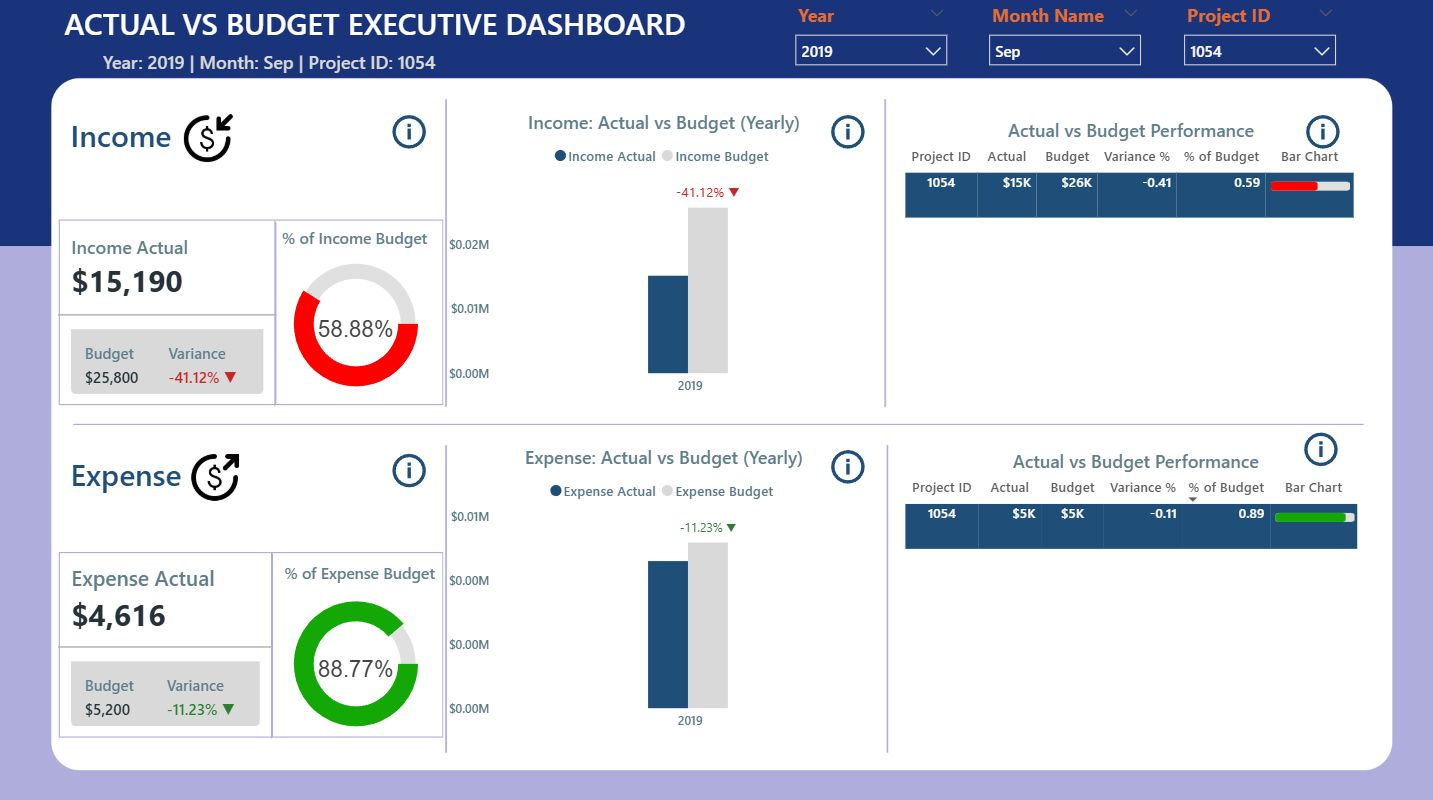

The dashboard page shown, as its layout file describes it:
{"tool":"powerbi","page":{"name":"Main","canvas":[1280,720],"ordinal":0},"visuals":[{"type":"pivotTable","title":"Actual vs Budget Performance","fields":{"Rows":["Data.Project_ID"],"Values":["Key Measures.Income Actual","Key Measures.Income Budget","Key Measures.Income Variance %","Key Measures.% of Income Budget","Key Measures.Income Bar Chart"]},"box":[801.1,107.4,411.4,263],"z":0},{"type":"slicer","fields":{"Values":["Data.Year"]},"box":[697.4,0,155.7,72.4],"z":1},{"type":"slicer","fields":{"Values":["Data.Month Name"]},"box":[870.6,0,155.7,72.4],"z":2},{"type":"slicer","fields":{"Values":["Data.Project_ID"]},"box":[1043.7,0,155.7,72.4],"z":3},{"type":"clusteredColumnChart","title":"Income: Actual vs Budget (Yearly)","fields":{"Y":["Key Measures.Income Actual","Key Measures.Income Budget"],"Category":["Data.Year"]},"box":[394.6,100.2,394.6,263],"z":4},{"type":"clusteredColumnChart","title":"Expense: Actual vs Budget (Yearly)","fields":{"Y":["Key Measures.Expense Actual","Key Measures.Expense Budget"],"Category":["Data.Year"]},"box":[394.6,398.2,394.6,263],"z":5},{"type":"cardVisual","fields":{"Data":["Key Measures.Income Actual"]},"box":[35,181,229.3,201.5],"z":6},{"type":"cardVisual","fields":{"Data":["Key Measures.% of Income Budget"]},"box":[100.2,191.9,300.5,199.1],"z":7},{"type":"textbox","box":[219.6,200.3,193.1,31.4],"z":8},{"type":"shape","box":[51.9,197.9,342.7,165.3],"z":9},{"type":"cardVisual","fields":{"Data":["Key Measures.Expense Actual"]},"box":[35,476.6,226.8,202.7],"z":10},{"type":"cardVisual","fields":{"Data":["Key Measures.% of Expense Budget"]},"box":[100.2,494.7,300.5,199.1],"z":11},{"type":"textbox","box":[223.2,498.3,193.1,31.4],"z":12},{"type":"shape","box":[51.9,494.7,342.7,165.3],"z":13},{"type":"pivotTable","title":"Actual vs Budget Performance","fields":{"Rows":["Data.Project_ID"],"Values":["Key Measures.Expense Actual","Key Measures.Expense Budget","Key Measures.Expense Variance %","Key Measures.% of Expense Budget","Key Measures.Expense Bar Chart"]},"box":[801.2,401.8,419.9,259.4],"z":14},{"type":"textbox","box":[57.9,100.2,220.8,51.9],"z":15},{"type":"textbox","box":[57.9,401.8,193.1,51.9],"z":16},{"type":"image","box":[148.4,100.1,72.4,51.9],"z":17},{"type":"image","box":[154.4,401.7,72.4,51.9],"z":18},{"type":"textbox","box":[51.9,0,581.6,51.9],"z":19},{"type":"card","fields":{"Values":["Key Measures.Dynamic Header"]},"box":[51.9,45.8,375.2,26.5],"z":20},{"type":"actionButton","box":[342.6,100.1,42.2,39.8],"z":21},{"type":"actionButton","box":[342.6,401.7,42.2,39.8],"z":22},{"type":"actionButton","box":[733.5,100.1,42.2,39.8],"z":23},{"type":"actionButton","box":[733.5,398.1,42.2,39.8],"z":24},{"type":"actionButton","box":[1157,100.1,42.2,39.8],"z":25},{"type":"actionButton","box":[1153.4,382.4,45.8,39.8],"z":26}]}

Visuals, with their boxes in screenshot pixels (x1, y1, x2, y2), scaled from the page's 1280x720 canvas onto the 1433x800 screenshot:
"Actual vs Budget Performance" pivotTable: detection(897, 119, 1357, 412)
slicer - Data.Year: detection(781, 0, 955, 80)
slicer - Data.Month Name: detection(975, 0, 1149, 80)
slicer - Data.Project_ID: detection(1168, 0, 1343, 80)
"Income: Actual vs Budget (Yearly)" clusteredColumnChart: detection(442, 111, 884, 404)
"Expense: Actual vs Budget (Yearly)" clusteredColumnChart: detection(442, 442, 884, 735)
cardVisual - Key Measures.Income Actual: detection(39, 201, 296, 425)
cardVisual - Key Measures.% of Income Budget: detection(112, 213, 449, 434)
textbox: detection(246, 223, 462, 257)
shape: detection(58, 220, 442, 404)
cardVisual - Key Measures.Expense Actual: detection(39, 530, 293, 755)
cardVisual - Key Measures.% of Expense Budget: detection(112, 550, 449, 771)
textbox: detection(250, 554, 466, 589)
shape: detection(58, 550, 442, 733)
"Actual vs Budget Performance" pivotTable: detection(897, 446, 1367, 735)
textbox: detection(65, 111, 312, 169)
textbox: detection(65, 446, 281, 504)
image: detection(166, 111, 247, 169)
image: detection(173, 446, 254, 504)
textbox: detection(58, 0, 709, 58)
card - Key Measures.Dynamic Header: detection(58, 51, 478, 80)
actionButton: detection(384, 111, 431, 155)
actionButton: detection(384, 446, 431, 491)
actionButton: detection(821, 111, 868, 155)
actionButton: detection(821, 442, 868, 487)
actionButton: detection(1295, 111, 1343, 155)
actionButton: detection(1291, 425, 1343, 469)
